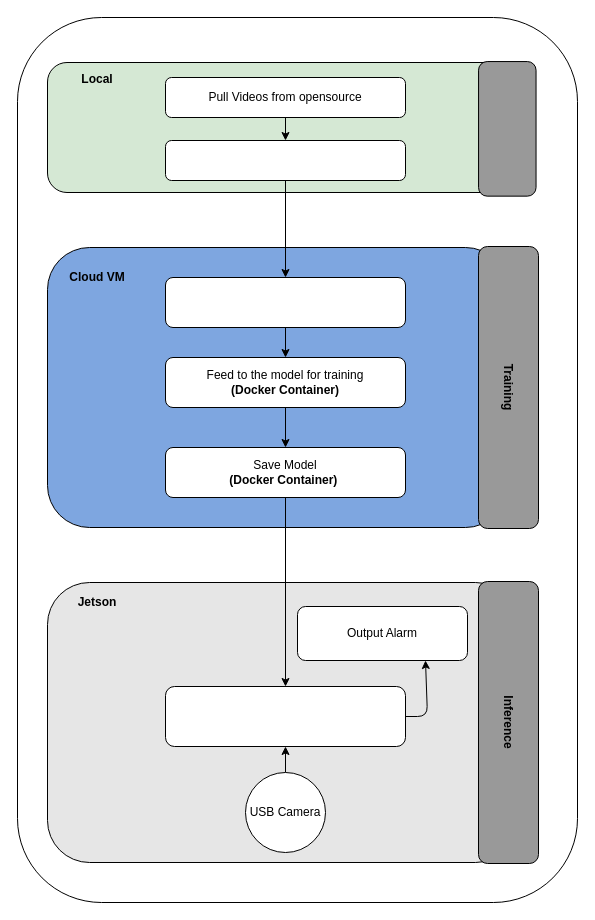
Image size: 595x920. Some labels were removed from this diagram. The shapes that lost their labels are listed below. From the top down, each one's centre as x and y in pixels, then its label:
point (507, 128): Data Acquisition
point (285, 160): Label Videos
point (285, 302): Upload data to S3
point (285, 716): Inference Engine (Docker Container)
